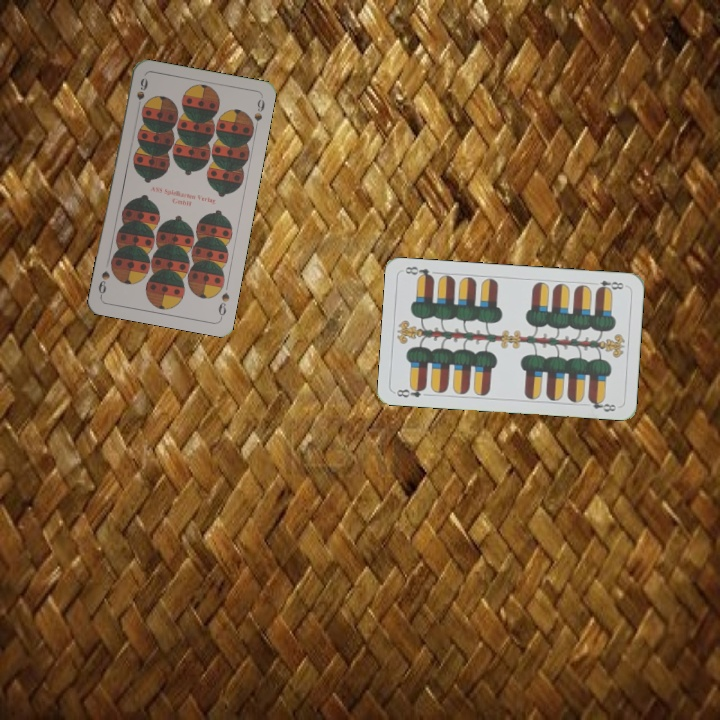E8: (588, 276, 628, 294), (393, 382, 429, 400)
S9: (132, 74, 151, 114), (214, 288, 232, 321)
